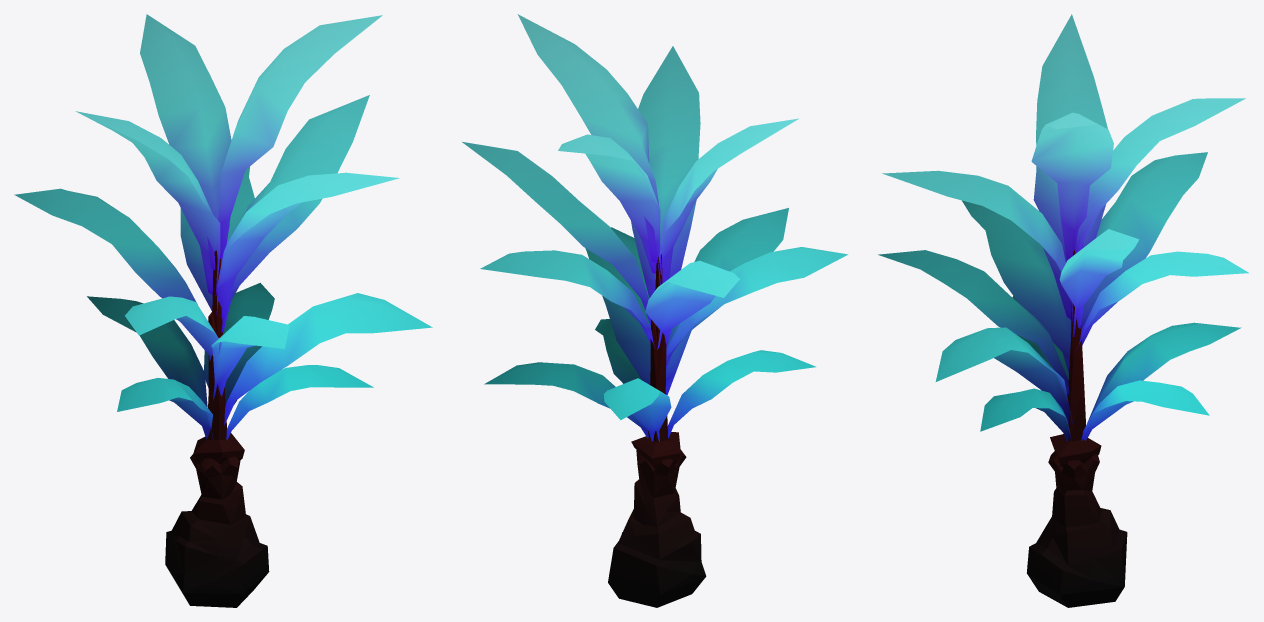
File: B_Env_Bush_Palm_01.fbx
The picture shows the model from 3 angles, left to right: view 1: azimuth 30°, elevation 25°; view 2: azimuth 150°, elevation 25°; view 3: azimuth 270°, elevation 25°; orthographic projection. The views are drawn at different scales.
Parts seen in each view (by area): view 1: SM_Env_Bush_Palm_01_LOD0; view 2: SM_Env_Bush_Palm_01_LOD0; view 3: SM_Env_Bush_Palm_01_LOD0.
Boxes of the visible parts, <box> form: SM_Env_Bush_Palm_01_LOD0: <box>14,14,432,607</box>; SM_Env_Bush_Palm_01_LOD0: <box>462,14,848,607</box>; SM_Env_Bush_Palm_01_LOD0: <box>878,14,1248,607</box>.
Bounding box in the file's own units: 2.41 × 3.98 × 2.47.
